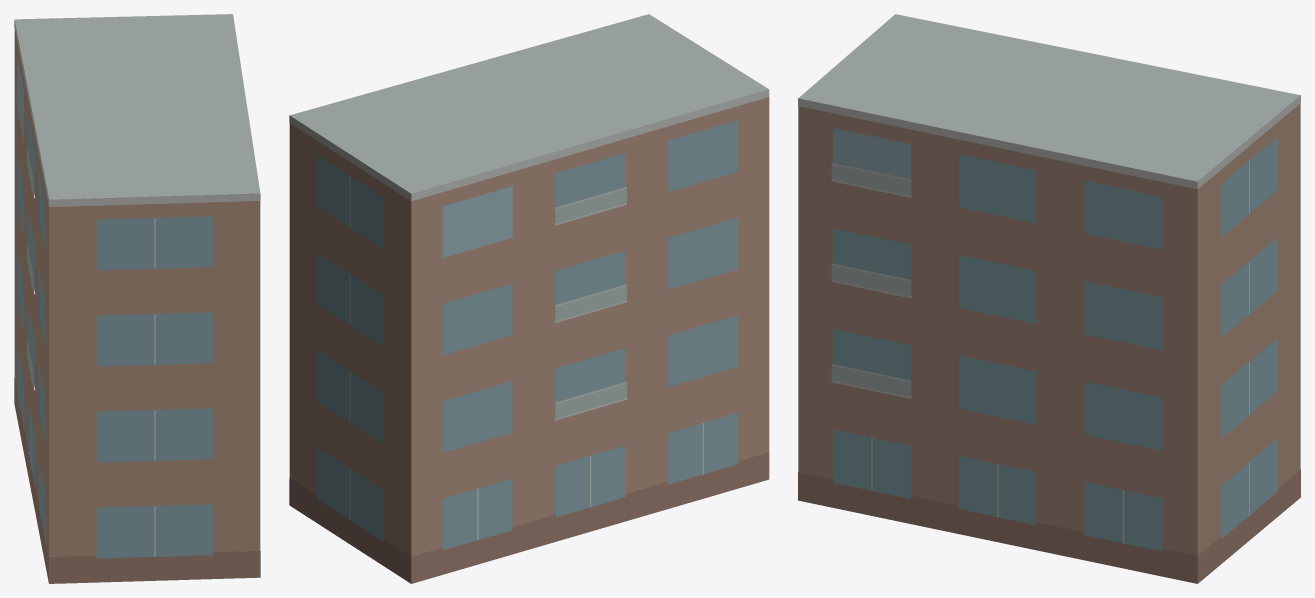
The model's file is survey-upis-32979573.glb.
The picture shows the model from 3 angles, left to right: view 1: azimuth 30°, elevation 25°; view 2: azimuth 150°, elevation 25°; view 3: azimuth 270°, elevation 25°; orthographic projection. The views are drawn at different scales.
Parts seen in each view (by area): view 1: survey-upis-32979573.tmp; view 2: survey-upis-32979573.tmp; view 3: survey-upis-32979573.tmp.
Part boxes in pixels (box(x1,y1,x2,y2)): survey-upis-32979573.tmp: box(14, 14, 260, 583); survey-upis-32979573.tmp: box(289, 14, 769, 583); survey-upis-32979573.tmp: box(798, 14, 1300, 583).
Bounding box in the file's own units: 11.37 × 12.7 × 14.39.
